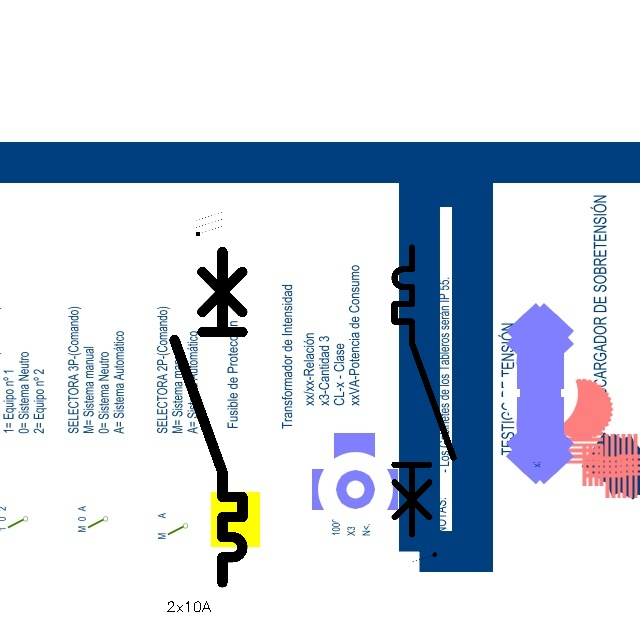interruptor_termomagnetico: (166, 243, 251, 591), (387, 240, 460, 541)
